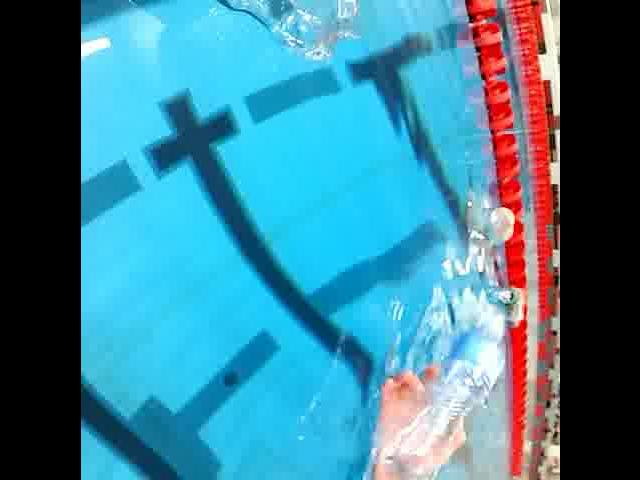Bottle: (376, 301, 512, 480), (130, 0, 367, 67)
